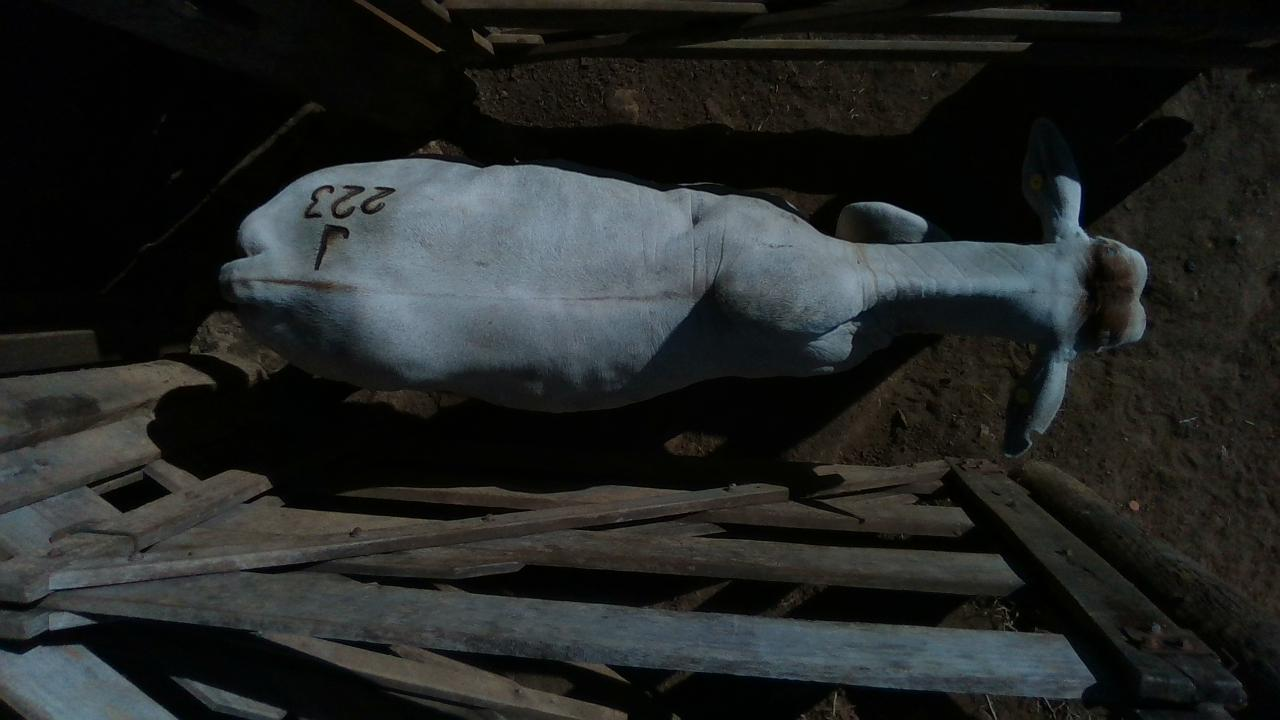cattle: (217, 120, 1149, 457)
